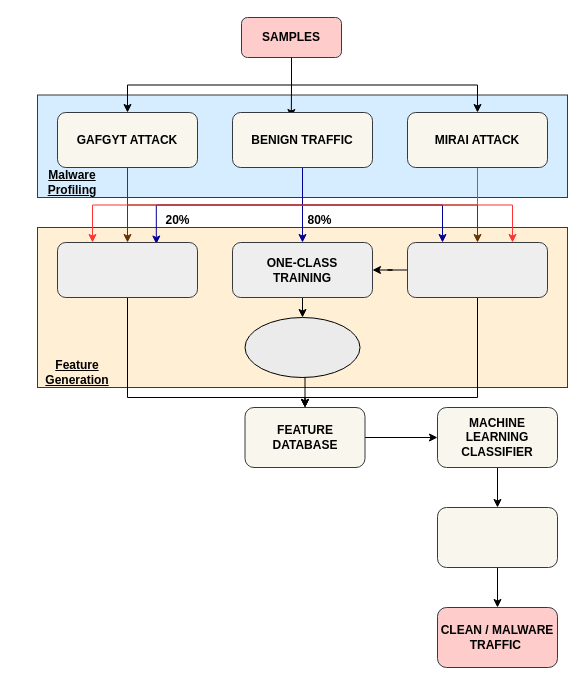
This 585x685 diagram has some shape labels left out. The centre of each missing label's shape, as x and y in pixels:
AUTO ENCODER (TEST): the point at 477,270
AUTO ENCODER (TRAINING): the point at 302,347
MALWARE DETECTION CLASSIFIER: the point at 497,537
ONE-CLASS I/P TEXT: the point at 127,270
